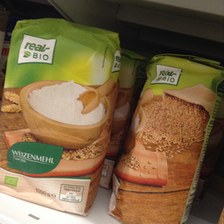flour: (2, 18, 122, 216), (113, 53, 221, 224)
